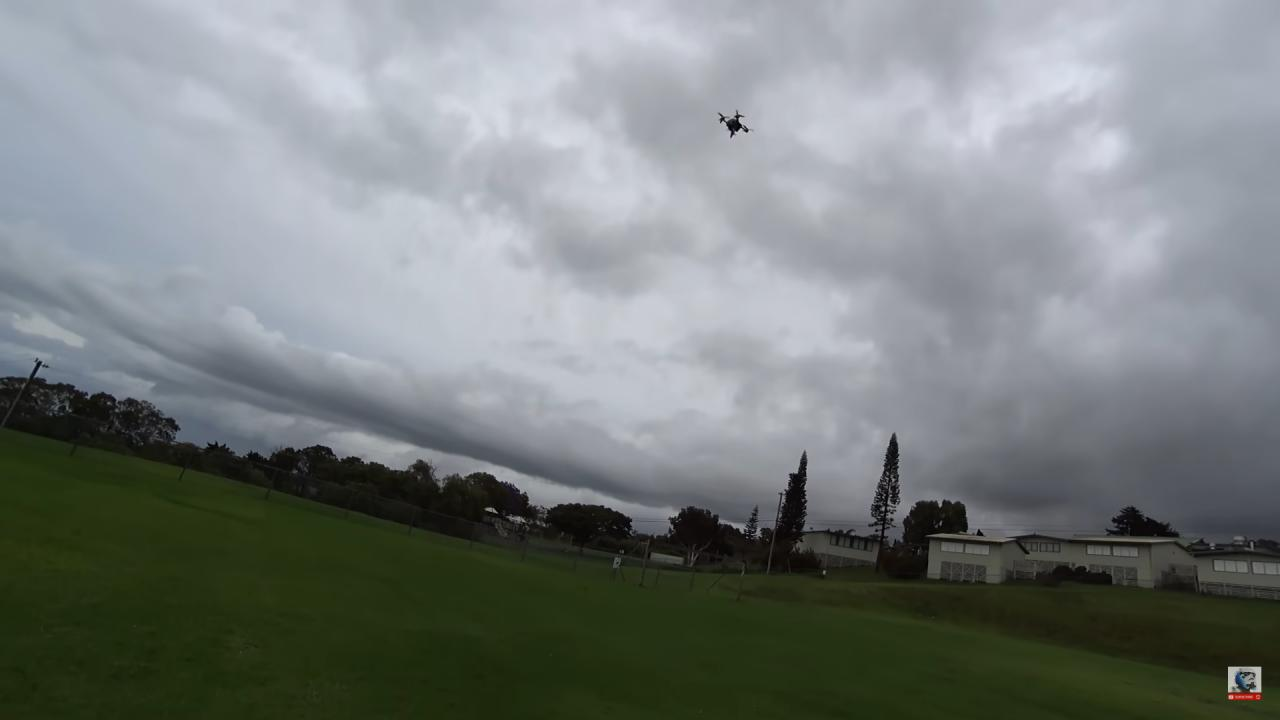Drone: (710, 103, 754, 144)
